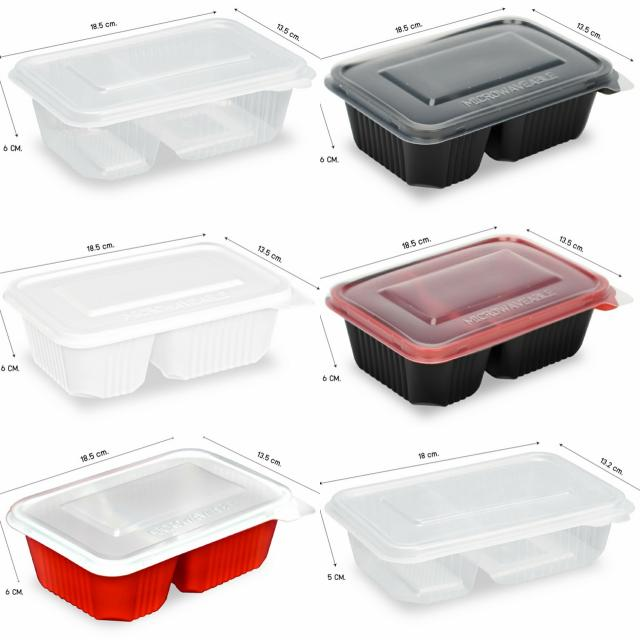plastik: (8, 449, 311, 621), (327, 236, 623, 406), (325, 18, 620, 188), (9, 19, 315, 179), (325, 452, 633, 603), (5, 242, 301, 398)
